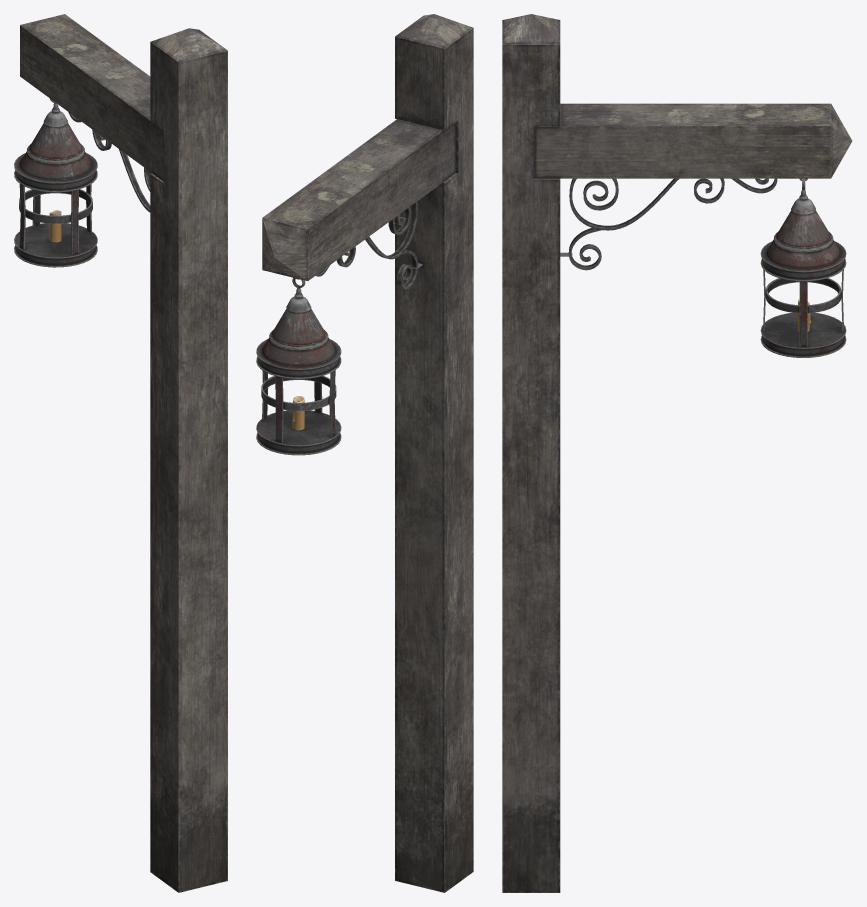
File: SM_LampA.fbx
The picture shows the model from 3 angles, left to right: view 1: azimuth 30°, elevation 25°; view 2: azimuth 150°, elevation 25°; view 3: azimuth 270°, elevation 25°; orthographic projection. The views are drawn at different scales.
Visible parts, largest first — view 1: SM_LampA_LOD0; view 2: SM_LampA_LOD0; view 3: SM_LampA_LOD0.
Boxes of the visible parts, x1,y1,x2,y2 form: SM_LampA_LOD0: [14, 14, 227, 892]; SM_LampA_LOD0: [256, 14, 473, 892]; SM_LampA_LOD0: [502, 14, 852, 892].
Bounding box in the file's own units: 17.92 × 73.29 × 200.
2 materials, 2 textured.
